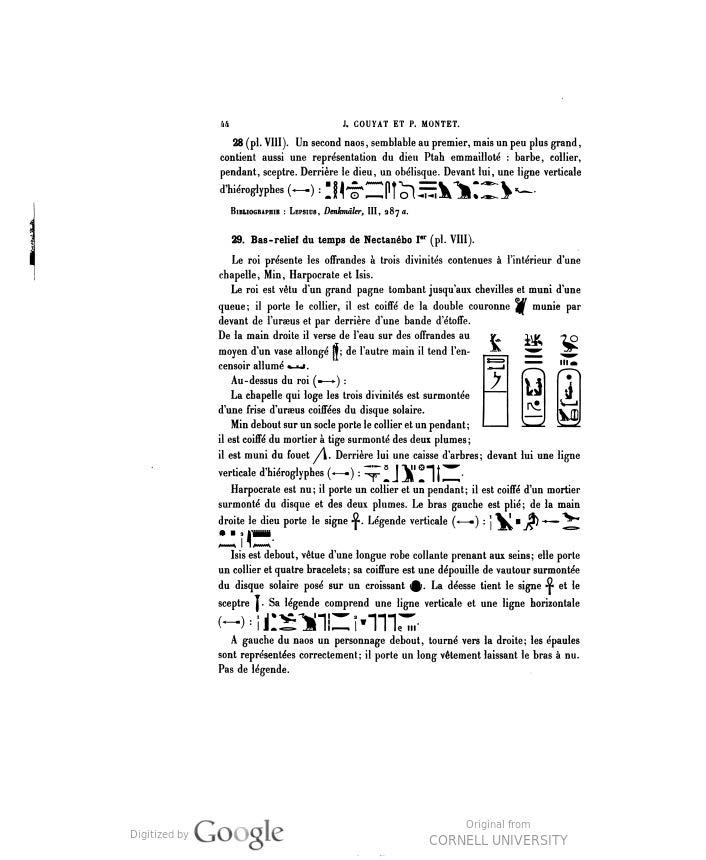circle: (552, 362, 590, 439), (517, 363, 551, 433)
